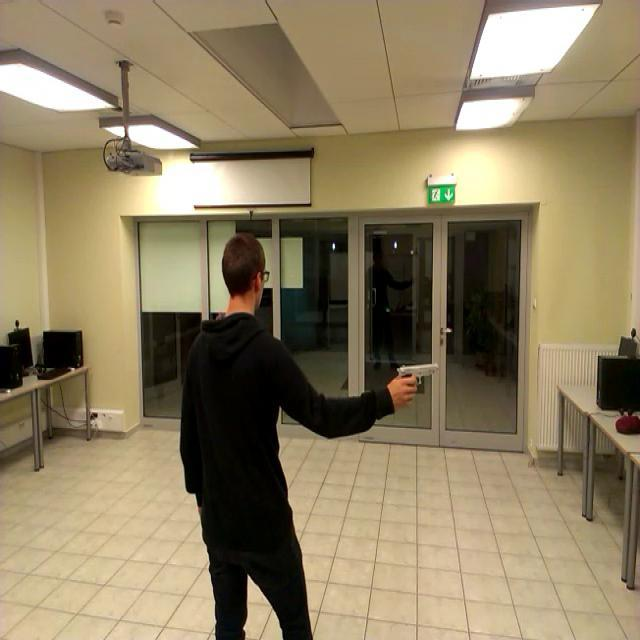Gun: (395, 362, 438, 397)
